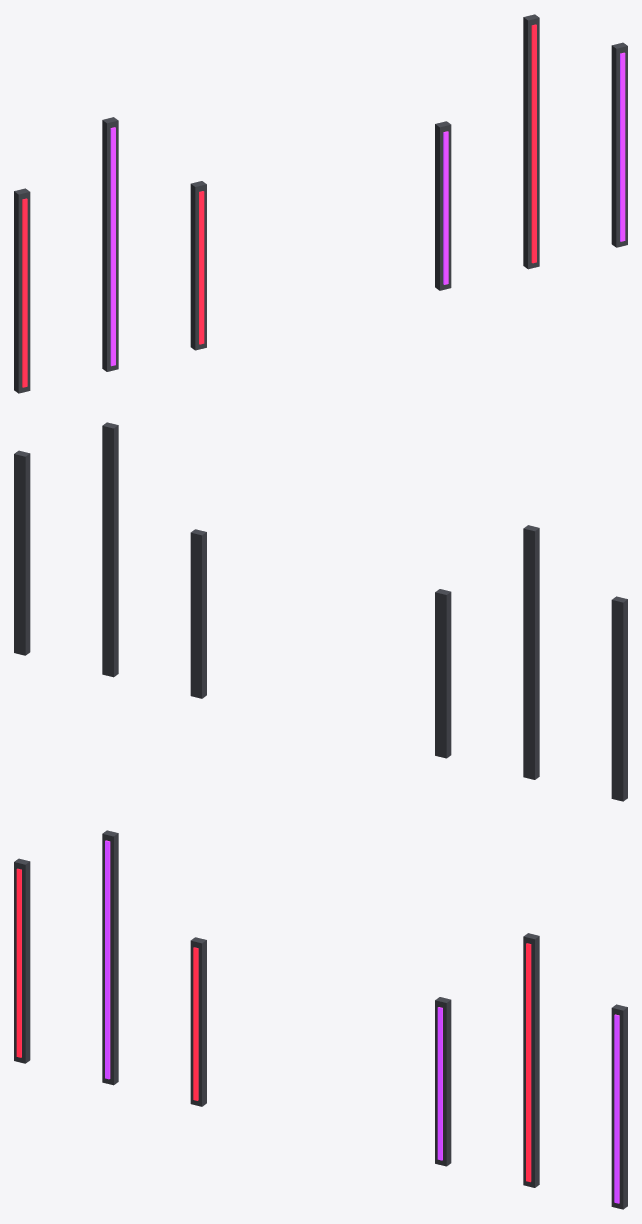
File: stage_lightbars.glb
The picture shows the model from 3 angles, top to bottom: view 1: azimuth 30°, elevation 25°; view 2: azimuth 150°, elevation 25°; view 3: azimuth 330°, elevation 25°; orthographic projection.
Visible parts, largest first — view 1: stage_lightbars; view 2: stage_lightbars; view 3: stage_lightbars.
Boxes of the visible parts, bbox=[...] form: stage_lightbars: bbox=[14, 14, 627, 393]; stage_lightbars: bbox=[14, 422, 627, 801]; stage_lightbars: bbox=[14, 830, 627, 1209].
Size of the model in its own units: 8.97 by 3.5 by 0.1435.
